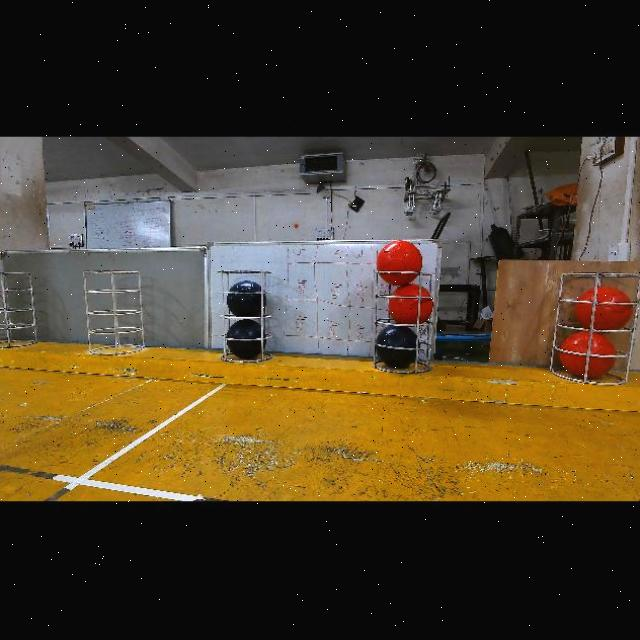P: (375, 325, 421, 368), (227, 319, 267, 360), (227, 280, 266, 318)
R: (559, 334, 616, 379), (575, 286, 633, 330), (376, 241, 423, 286), (388, 282, 433, 324)
S: (0, 272, 40, 348)
